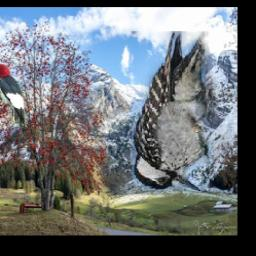Woodpecker: (132, 32, 232, 192), (0, 63, 29, 128)
